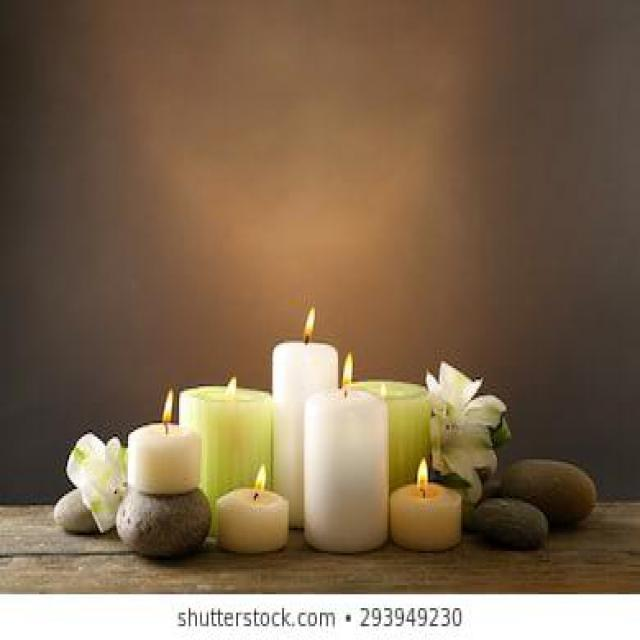Fire: (254, 462, 266, 500), (342, 352, 354, 389), (162, 389, 174, 426), (304, 306, 316, 341), (418, 457, 428, 496)
